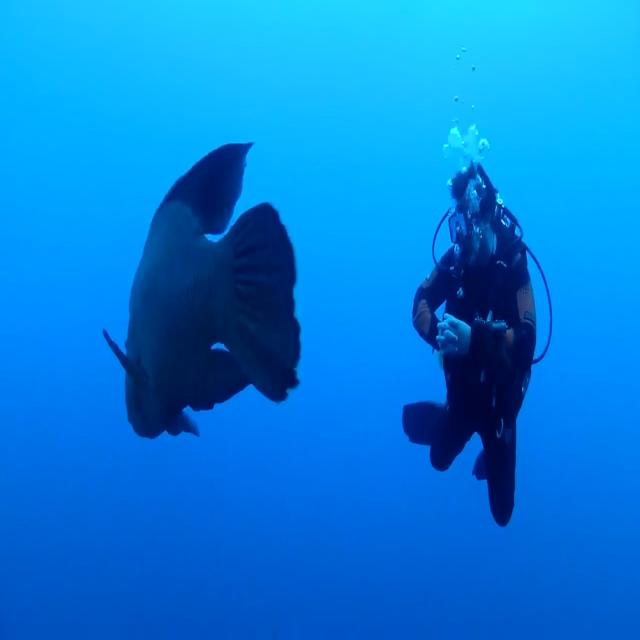Napoleon -Endangered-: (105, 144, 303, 436)
